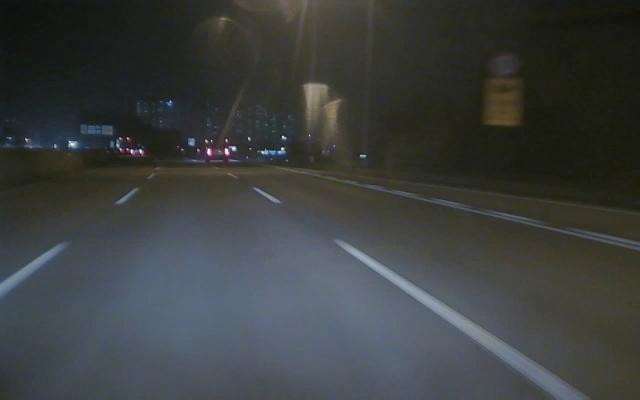lane: (256, 189, 588, 396), (325, 175, 640, 251), (0, 190, 136, 296)
